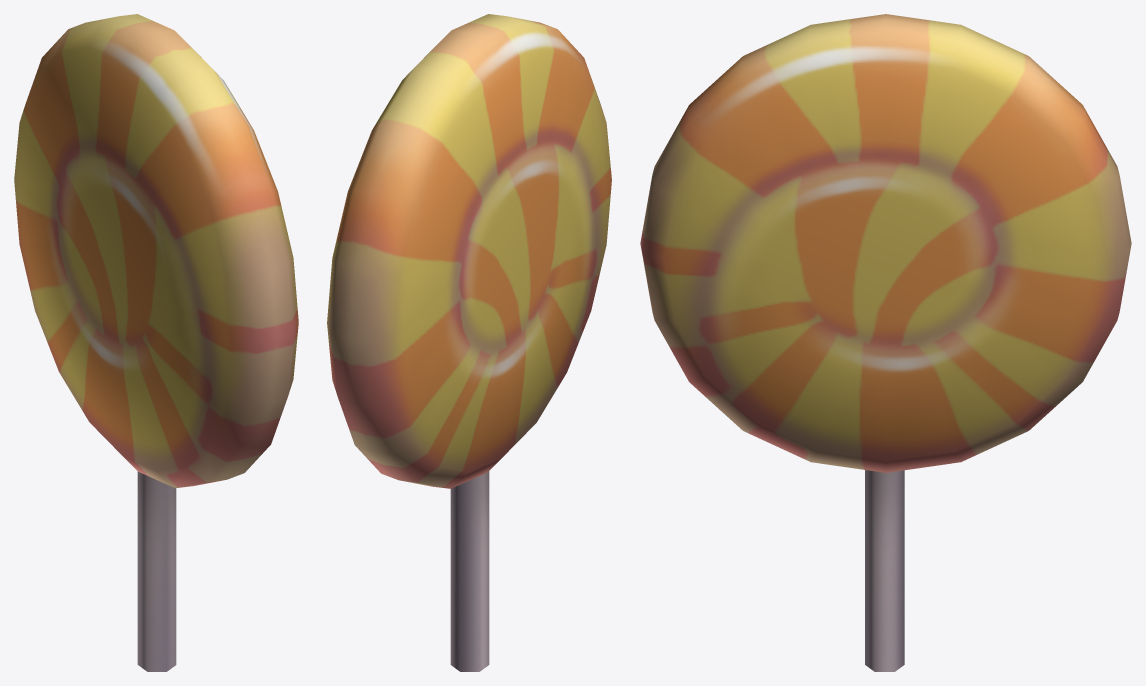
The model's file is scenes_candy_lollipop01.FBX.
3 renders of one model, left to right at view 1: azimuth 30°, elevation 25°; view 2: azimuth 150°, elevation 25°; view 3: azimuth 270°, elevation 25°, orthographic.
Visible parts, largest first — view 1: scenes_candy_lollipop01; view 2: scenes_candy_lollipop01; view 3: scenes_candy_lollipop01.
Boxes of the visible parts, left/top/right/bottom form: scenes_candy_lollipop01: left=14, top=14, right=298, bottom=671; scenes_candy_lollipop01: left=327, top=14, right=611, bottom=671; scenes_candy_lollipop01: left=640, top=14, right=1131, bottom=671.
Size of the model in its own units: 57.45 by 388 by 268.
